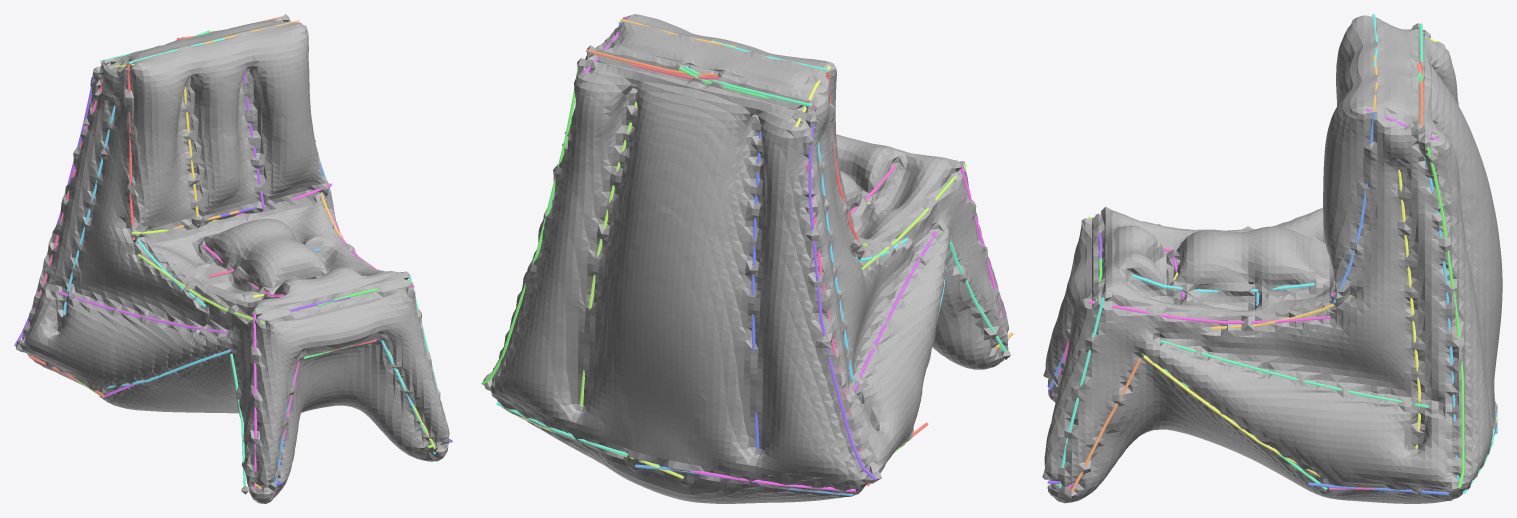
The model's file is author1_chair_ff.gltf.
The picture shows the model from 3 angles, left to right: view 1: azimuth 30°, elevation 25°; view 2: azimuth 150°, elevation 25°; view 3: azimuth 270°, elevation 25°; orthographic projection. The views are drawn at different scales.
Size of the model in its own units: 0.5828 by 0.6012 by 0.6149.
